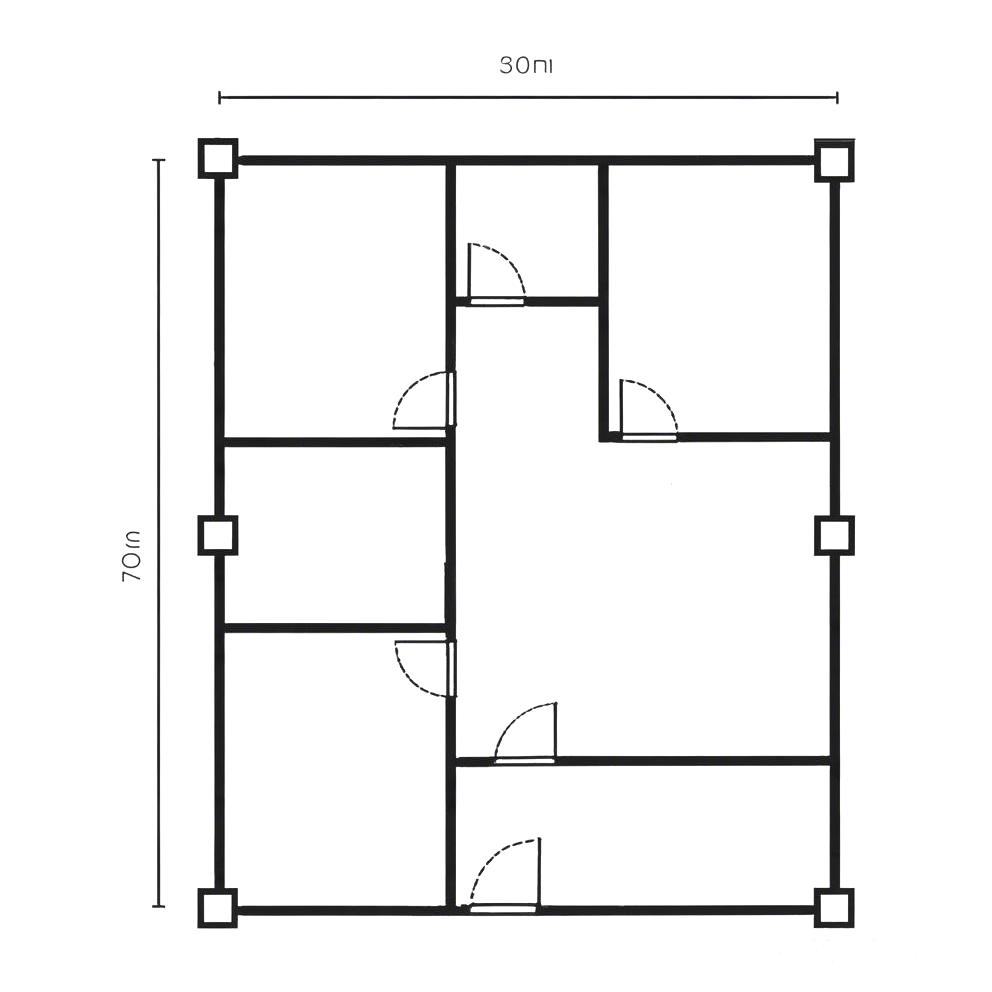Blueprint: (181, 121, 870, 944)
wall: (238, 153, 814, 167), (826, 556, 843, 888), (212, 178, 228, 515), (826, 184, 842, 516), (212, 555, 227, 886), (536, 902, 815, 918), (224, 433, 446, 452), (596, 166, 610, 443), (557, 754, 830, 768), (443, 425, 459, 642), (443, 164, 459, 373), (225, 621, 446, 636), (237, 903, 470, 917), (443, 696, 458, 902), (676, 429, 830, 444), (523, 294, 598, 309), (456, 754, 497, 769), (454, 296, 472, 308), (608, 430, 622, 445)
